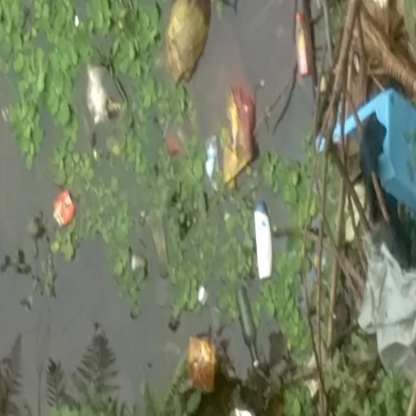bottle: (252, 198, 277, 280)
plastic-bag: (219, 85, 264, 187)
